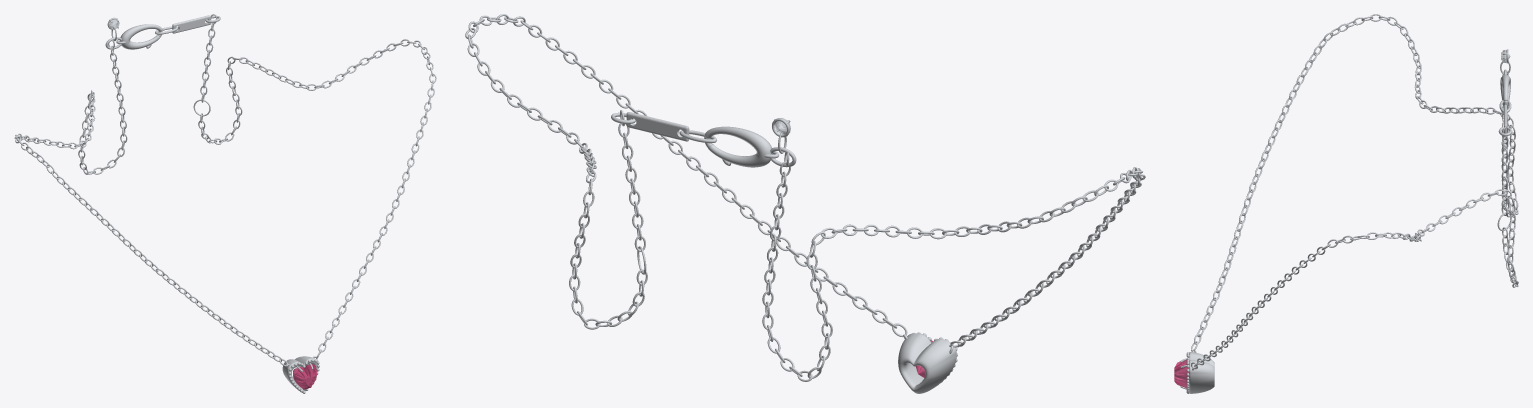
The model's file is necklace.glb.
3 views of the same model, side by side, from view 1: azimuth 30°, elevation 25°; view 2: azimuth 150°, elevation 25°; view 3: azimuth 270°, elevation 25° (orthographic). The views are drawn at different scales.
Parts seen in each view (by area): view 1: M01_Silver_user_spec_display, M02_PinkZircon_reference_approx_display; view 2: M01_Silver_user_spec_display; view 3: M01_Silver_user_spec_display, M02_PinkZircon_reference_approx_display.
Part boxes in pixels (box(x1,y1,x2,y2)): M01_Silver_user_spec_display: box(14, 14, 436, 393); M02_PinkZircon_reference_approx_display: box(293, 364, 317, 389); M01_Silver_user_spec_display: box(465, 14, 1145, 393); M01_Silver_user_spec_display: box(1180, 14, 1518, 393); M02_PinkZircon_reference_approx_display: box(1174, 359, 1188, 388).
Size of the model in its own units: 0.1029 by 0.069 by 0.0679.
